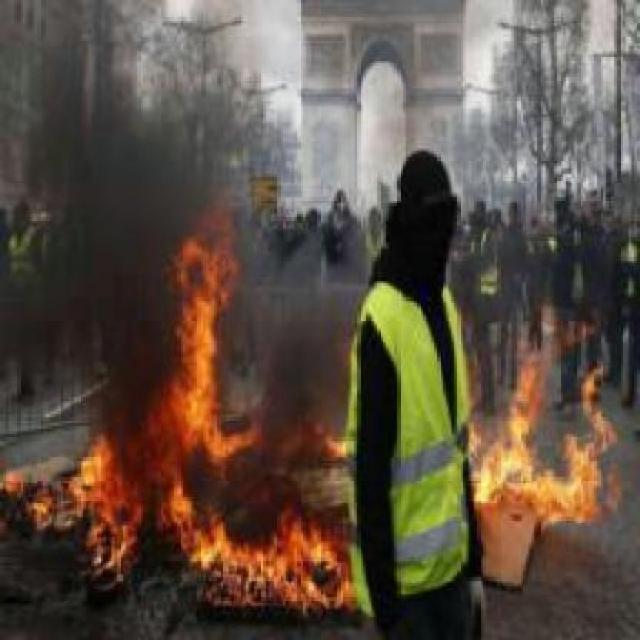Fire: (152, 414, 356, 612), (466, 330, 622, 530), (0, 424, 152, 584), (152, 227, 238, 417)
